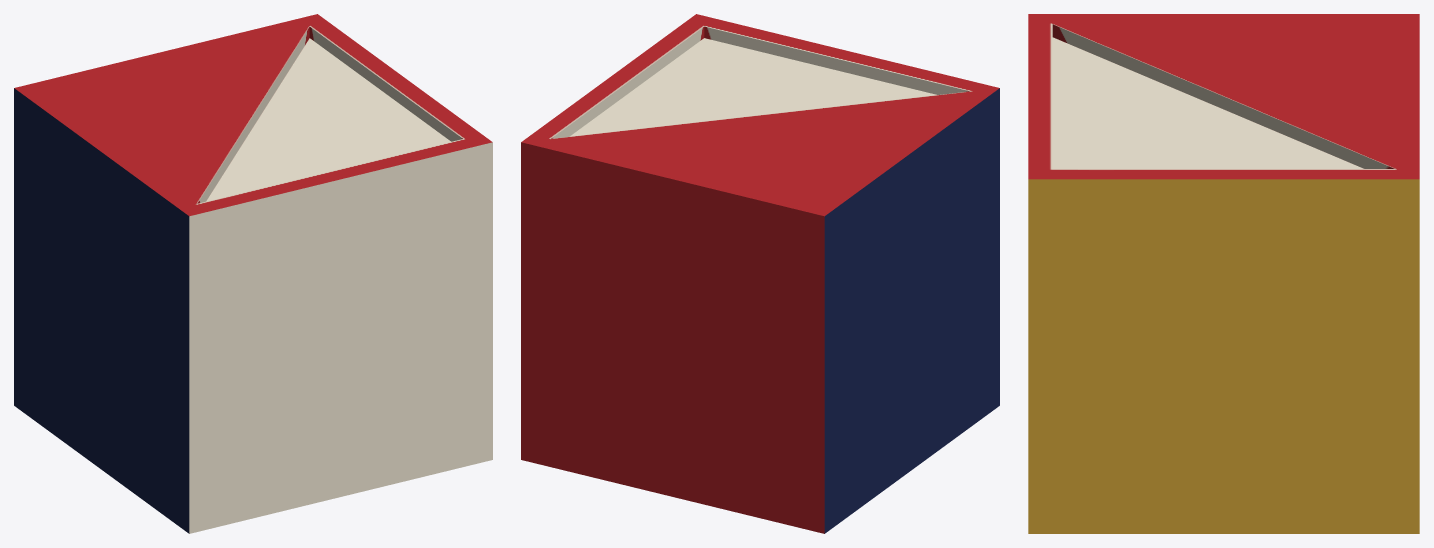
The model's file is color-cube-flat.obj.
The picture shows the model from 3 angles, left to right: view 1: azimuth 30°, elevation 25°; view 2: azimuth 150°, elevation 25°; view 3: azimuth 270°, elevation 25°; orthographic projection. The views are drawn at different scales.
Parts seen in each view (by area): view 1: ColorCube; view 2: ColorCube; view 3: ColorCube.
Part boxes in pixels (x1,y1,x2,y2): ColorCube: (14, 14, 492, 533); ColorCube: (521, 14, 999, 533); ColorCube: (1028, 14, 1419, 533).
Bounding box in the file's own units: 0.0275 × 0.0275 × 0.0275.
1 material, 1 textured.
